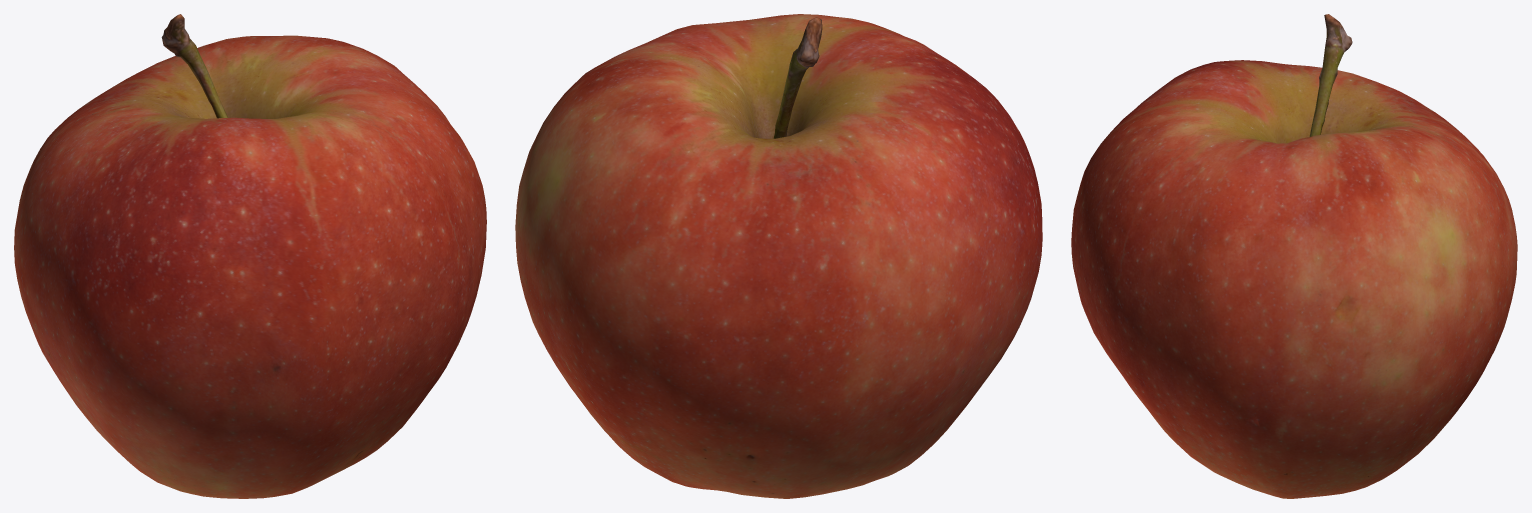
File: 3DApple001_SQ-1K-PNG.obj
The picture shows the model from 3 angles, left to right: view 1: azimuth 30°, elevation 25°; view 2: azimuth 150°, elevation 25°; view 3: azimuth 270°, elevation 25°; orthographic projection. The views are drawn at different scales.
Visible parts, largest first — view 1: 3DApple001_SQ-1K-PNG; view 2: 3DApple001_SQ-1K-PNG; view 3: 3DApple001_SQ-1K-PNG.
Boxes of the visible parts, bbox=[...] form: 3DApple001_SQ-1K-PNG: bbox=[14, 14, 486, 498]; 3DApple001_SQ-1K-PNG: bbox=[515, 14, 1042, 498]; 3DApple001_SQ-1K-PNG: bbox=[1071, 14, 1517, 498].
Bounding box in the file's own units: 0.1156 × 0.1197 × 0.1151.
Materials: 1 (1 with a texture image).
